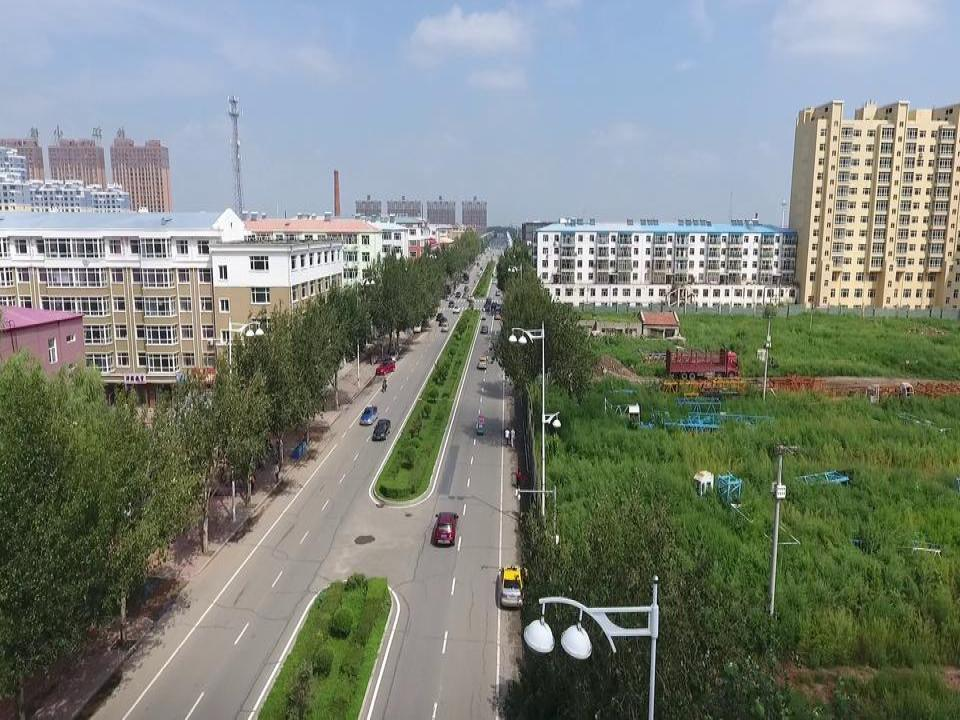bus: (463, 269, 470, 283)
car: (497, 564, 524, 607), (432, 511, 458, 545), (372, 420, 391, 440), (360, 404, 378, 424), (376, 361, 395, 375), (387, 349, 400, 360), (478, 355, 487, 369), (481, 324, 488, 335), (439, 316, 446, 325), (495, 312, 502, 321), (442, 322, 449, 330), (436, 312, 442, 321), (467, 294, 474, 301), (483, 302, 489, 310), (453, 307, 460, 313), (496, 289, 501, 296), (492, 277, 497, 284), (462, 292, 469, 297), (449, 300, 454, 307), (464, 285, 469, 291), (478, 269, 483, 275), (456, 292, 460, 297), (476, 271, 480, 276), (479, 266, 483, 270), (476, 262, 480, 266), (494, 272, 496, 277)
truck: (664, 346, 739, 382), (486, 297, 491, 304)
van: (414, 319, 421, 332)
